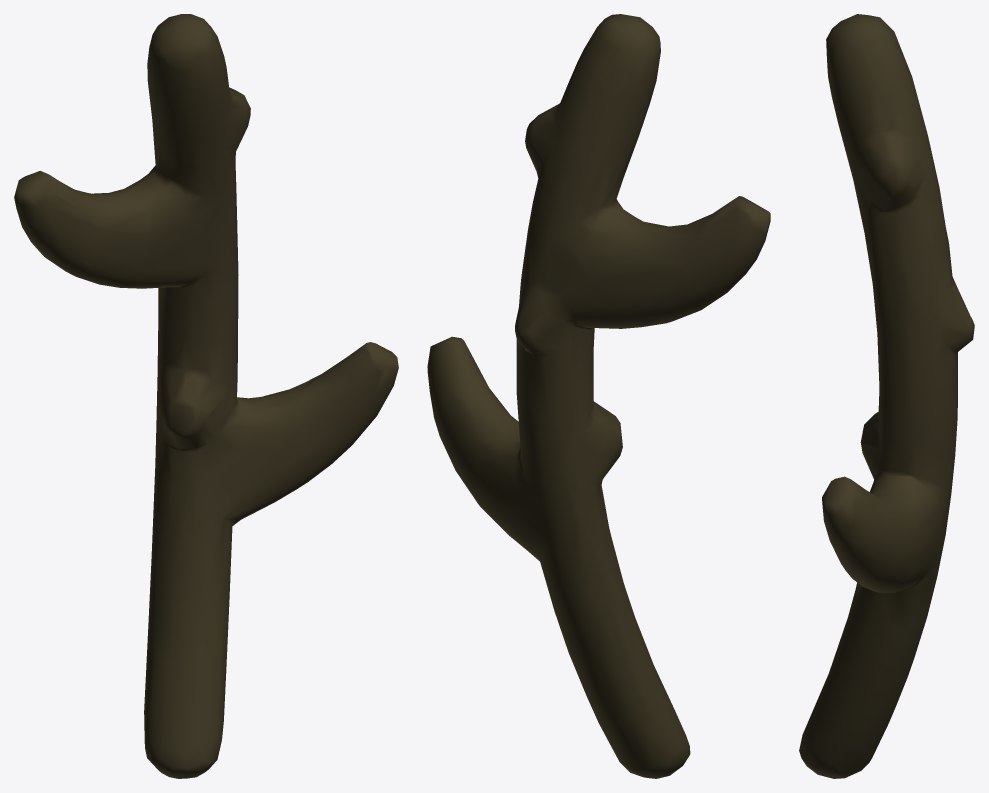
Rendered from ss_stalk3.gltf.
3 views of the same model, side by side, from view 1: azimuth 30°, elevation 25°; view 2: azimuth 150°, elevation 25°; view 3: azimuth 270°, elevation 25° (orthographic). The views are drawn at different scales.
Visible parts, largest first — view 1: Layer_1.001; view 2: Layer_1.001; view 3: Layer_1.001.
Boxes of the visible parts, x1,y1,x2,y2 form: Layer_1.001: [14, 14, 398, 778]; Layer_1.001: [427, 14, 770, 778]; Layer_1.001: [799, 14, 974, 778].
Bounding box in the file's own units: 0.7112 × 1.43 × 0.2976.
